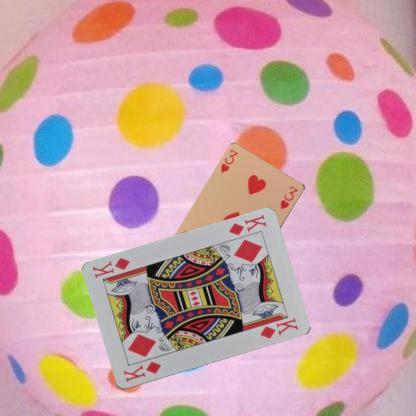3h: (218, 147, 239, 174)
Kd: (226, 212, 268, 238), (120, 359, 162, 384)
